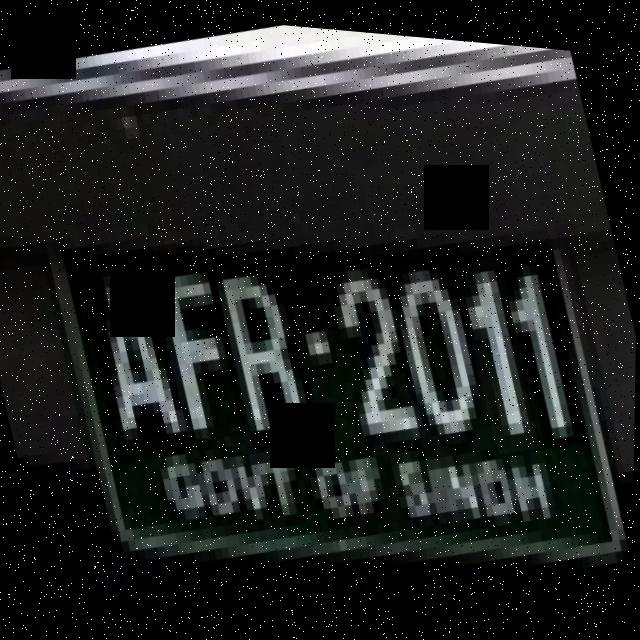0: (384, 235, 502, 452)
1: (493, 235, 590, 442), (454, 243, 547, 447)
A: (74, 253, 195, 467)
F: (143, 235, 252, 444)
R: (209, 238, 322, 449)
